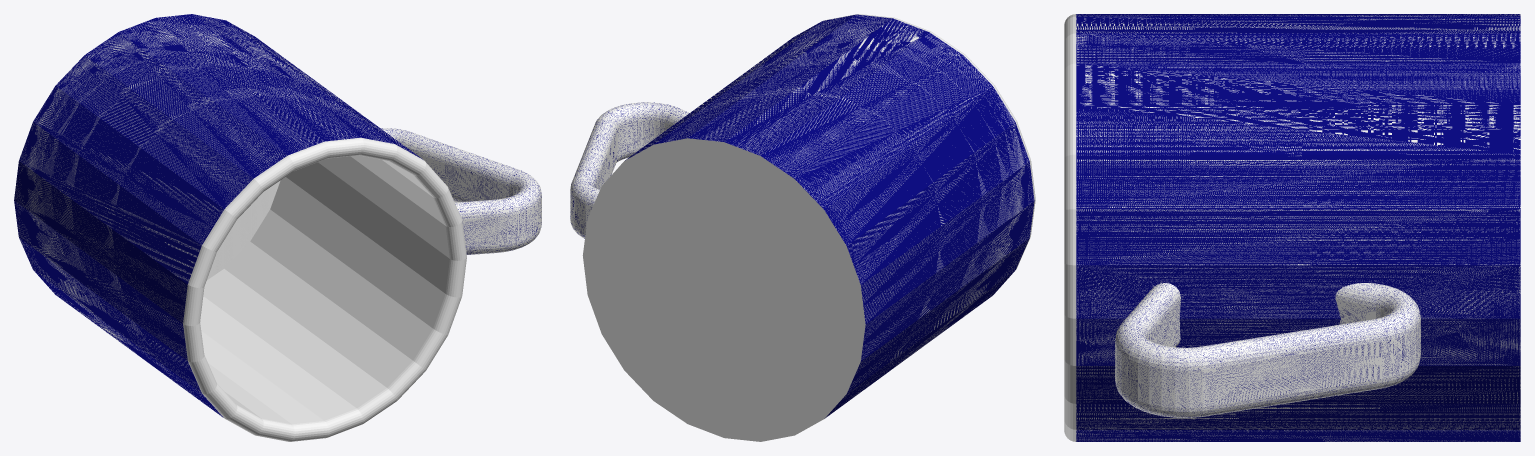
3 renders of one model, left to right at view 1: azimuth 30°, elevation 25°; view 2: azimuth 150°, elevation 25°; view 3: azimuth 270°, elevation 25°, orthographic. The views are drawn at different scales.
Visible parts, largest first — view 1: mug; view 2: mug; view 3: mug.
Boxes of the visible parts, left/top/right/bottom form: mug: left=14, top=14, right=541, bottom=441; mug: left=570, top=14, right=1035, bottom=441; mug: left=1064, top=14, right=1520, bottom=441.
Size of the model in its own units: 180 by 130 by 138.
